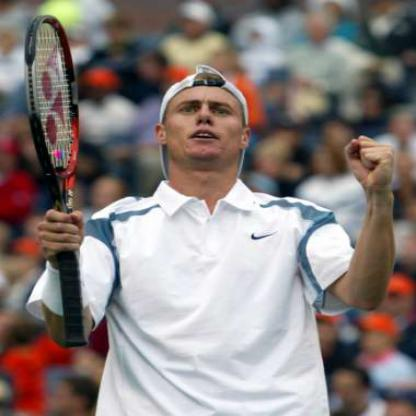face: (163, 75, 248, 169)
